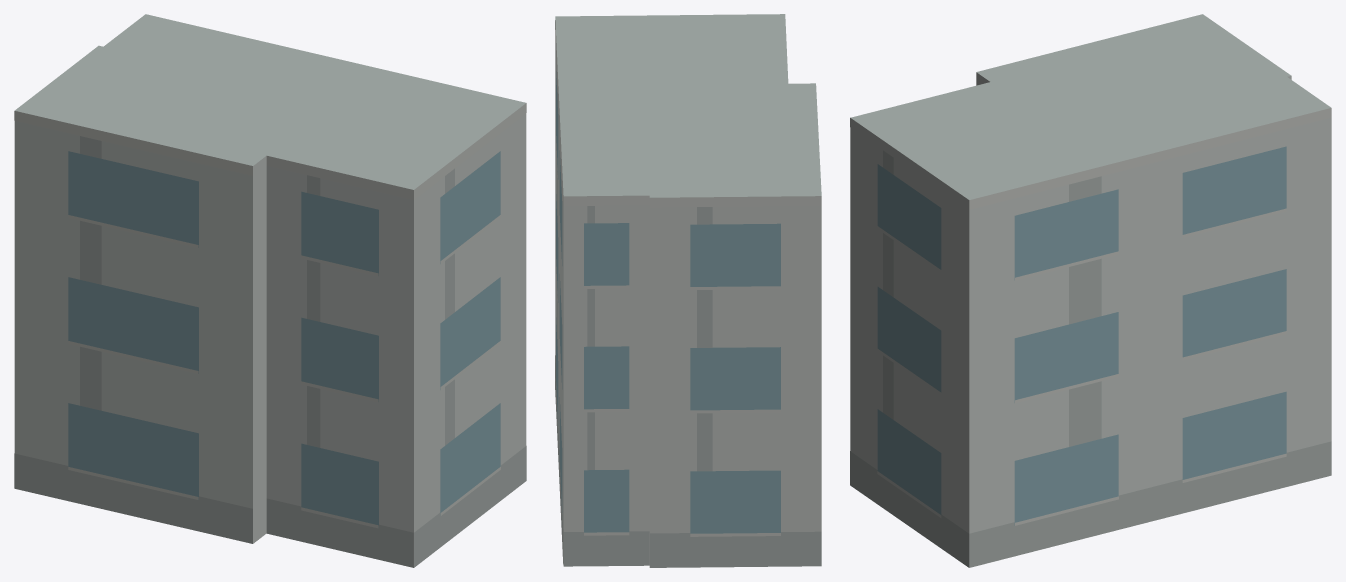
File: residential-e39b5c52-20ba-43c4-bf9f-240a67a163e0.glb
The picture shows the model from 3 angles, left to right: view 1: azimuth 30°, elevation 25°; view 2: azimuth 150°, elevation 25°; view 3: azimuth 270°, elevation 25°; orthographic projection. The views are drawn at different scales.
Visible parts, largest first — view 1: residential-e39b5c52-20ba-43c4-bf9f-240a67a163e0.tmp; view 2: residential-e39b5c52-20ba-43c4-bf9f-240a67a163e0.tmp; view 3: residential-e39b5c52-20ba-43c4-bf9f-240a67a163e0.tmp.
Boxes of the visible parts, box(x1,y1,x2,y2) form: residential-e39b5c52-20ba-43c4-bf9f-240a67a163e0.tmp: box(14, 14, 526, 567); residential-e39b5c52-20ba-43c4-bf9f-240a67a163e0.tmp: box(555, 14, 821, 567); residential-e39b5c52-20ba-43c4-bf9f-240a67a163e0.tmp: box(850, 14, 1331, 567).
Bounding box in the file's own units: 9.94 × 9.15 × 10.86.
